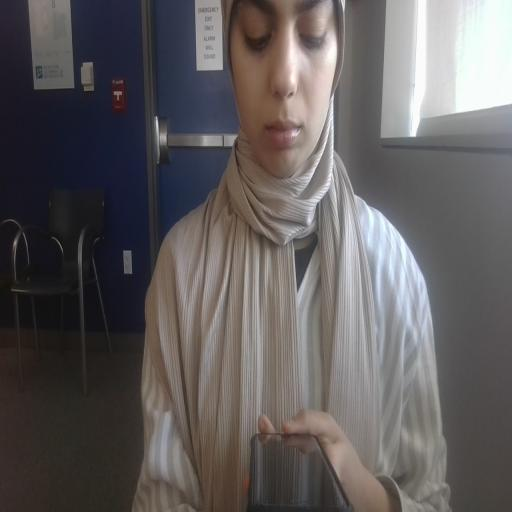objects: (246, 433, 353, 511)
phone: (240, 422, 377, 512)
